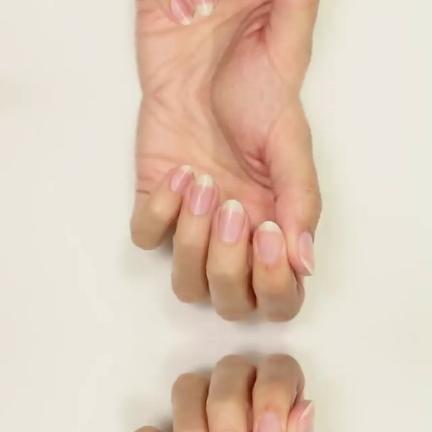Nail: (218, 198, 245, 243), (257, 220, 283, 263), (190, 173, 215, 214), (297, 230, 315, 274), (170, 163, 194, 191), (170, 0, 194, 25), (297, 400, 315, 432), (257, 411, 283, 432), (193, 0, 215, 15), (221, 431, 233, 432)
